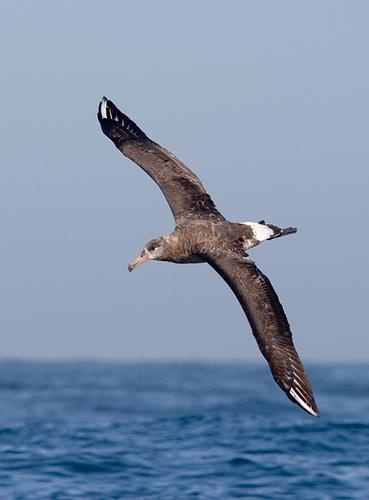bird: (95, 95, 323, 418)
